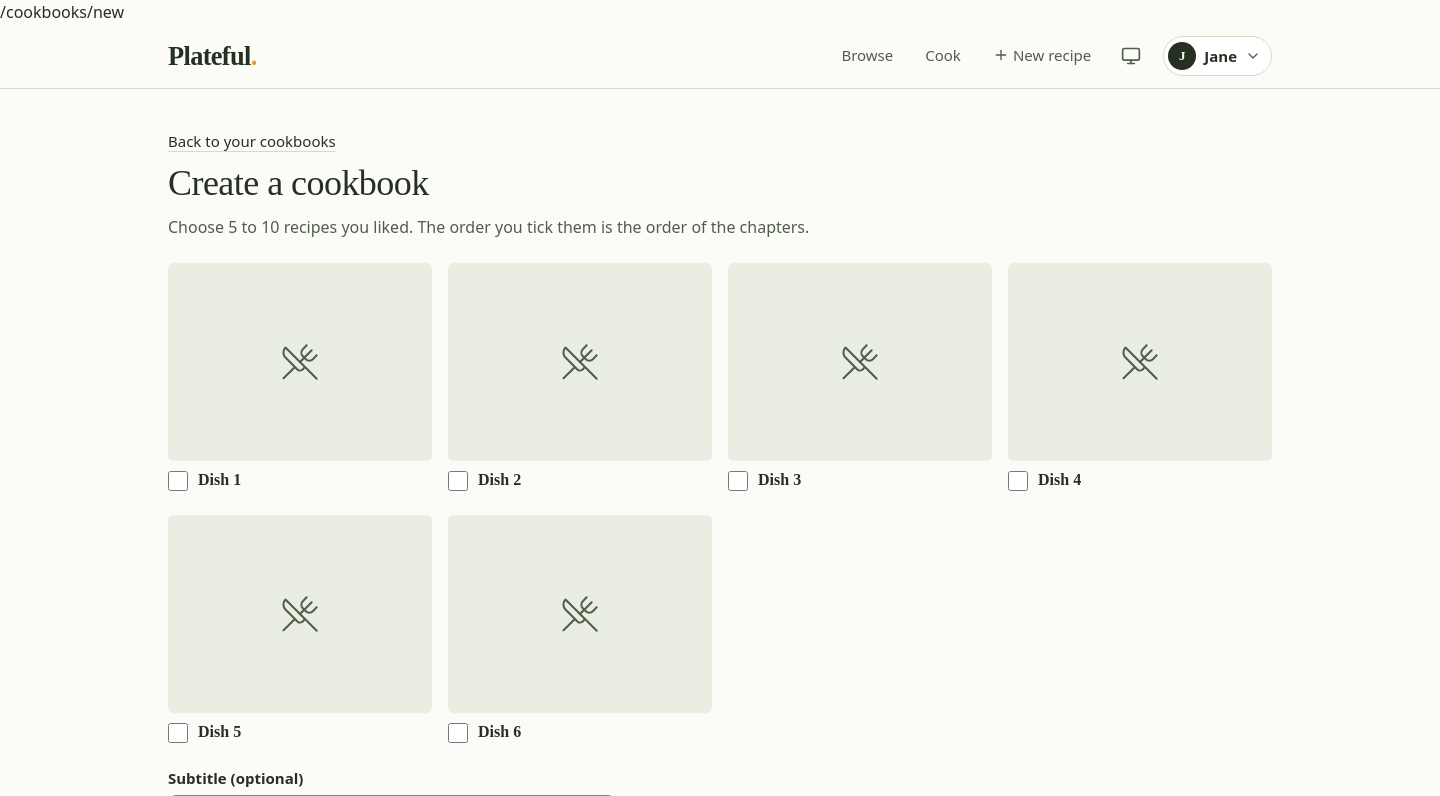
Test: aConflictShowsItsMessage_keepsThePage_andDropsTicksNoLongerOffered
Click the checkbox labelled "Dish 1". click: (178, 481)
box: 168,471 -> 188,491
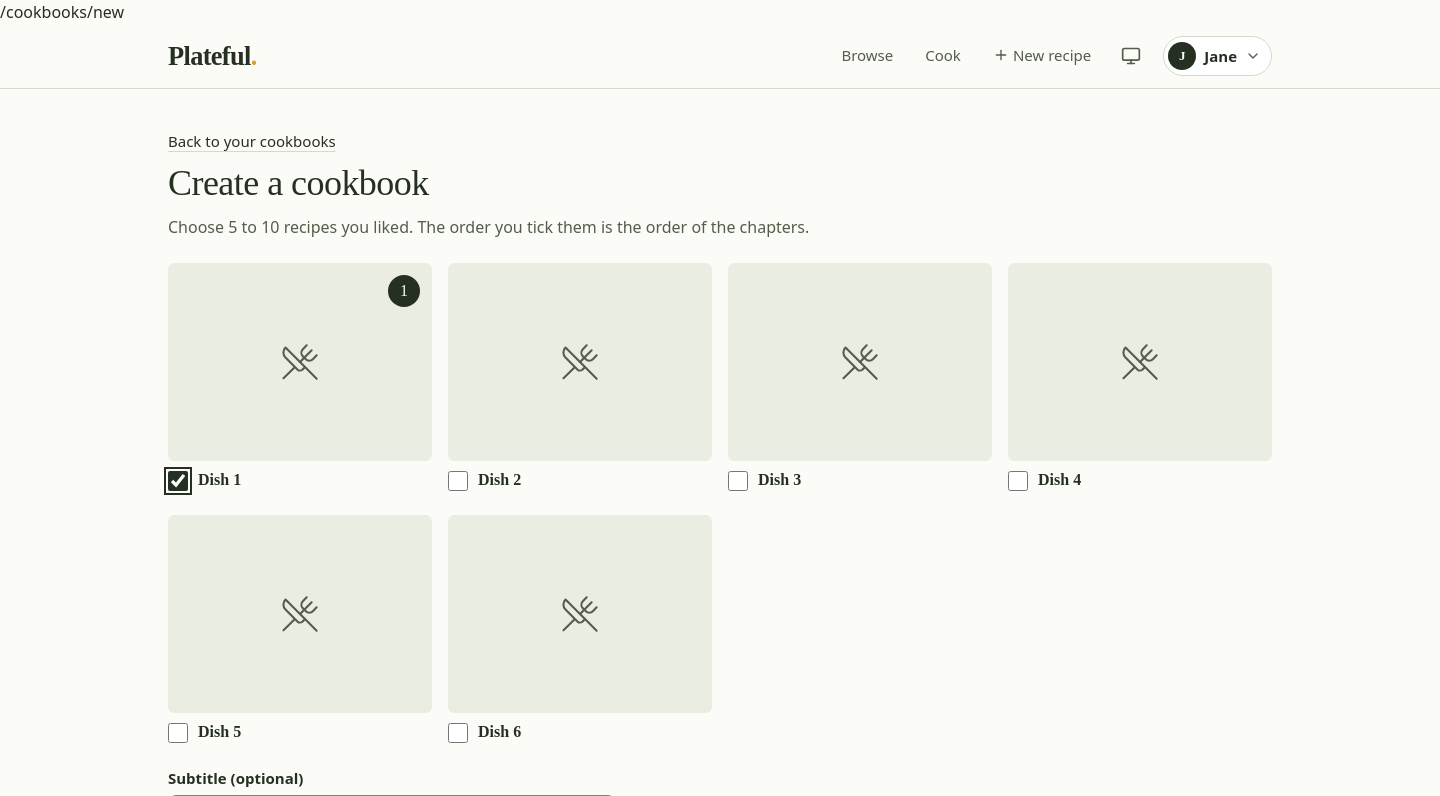
Click the checkbox labelled "Dish 2". click: (458, 481)
box: 448,471 -> 468,491
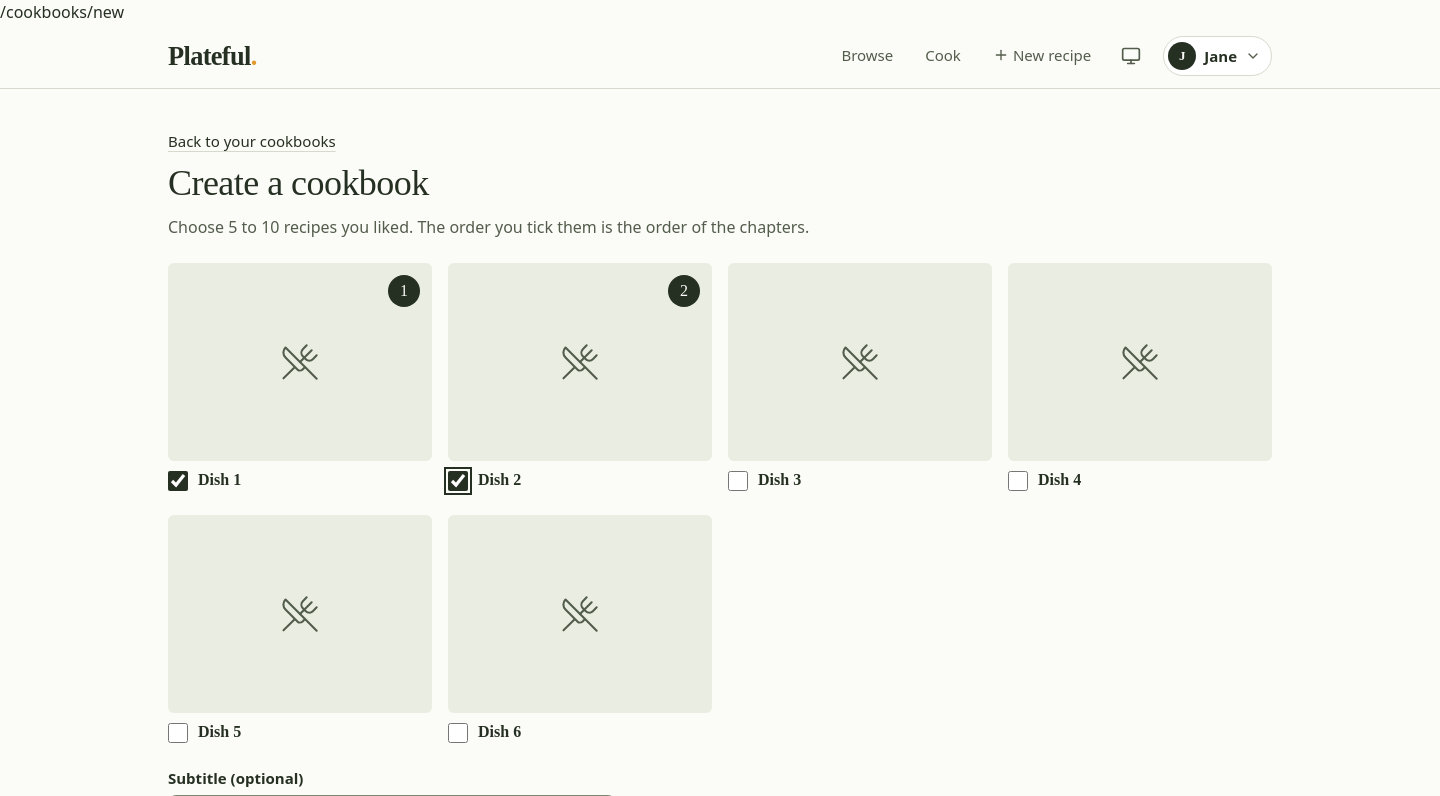
Click the checkbox labelled "Dish 3". click: (738, 481)
box: 728,471 -> 748,491
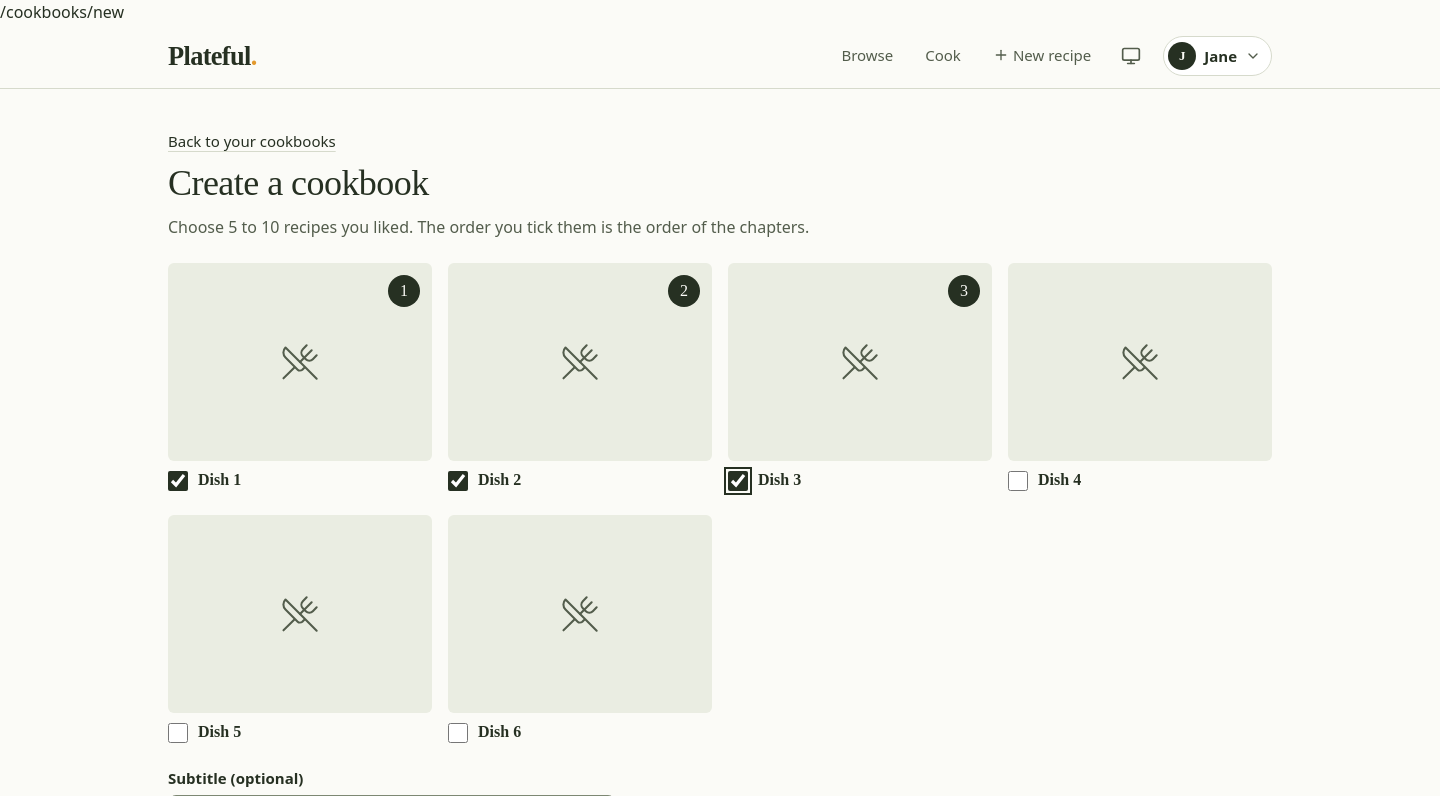
Click the checkbox labelled "Dish 4". click: (1018, 481)
box: 1008,471 -> 1028,491
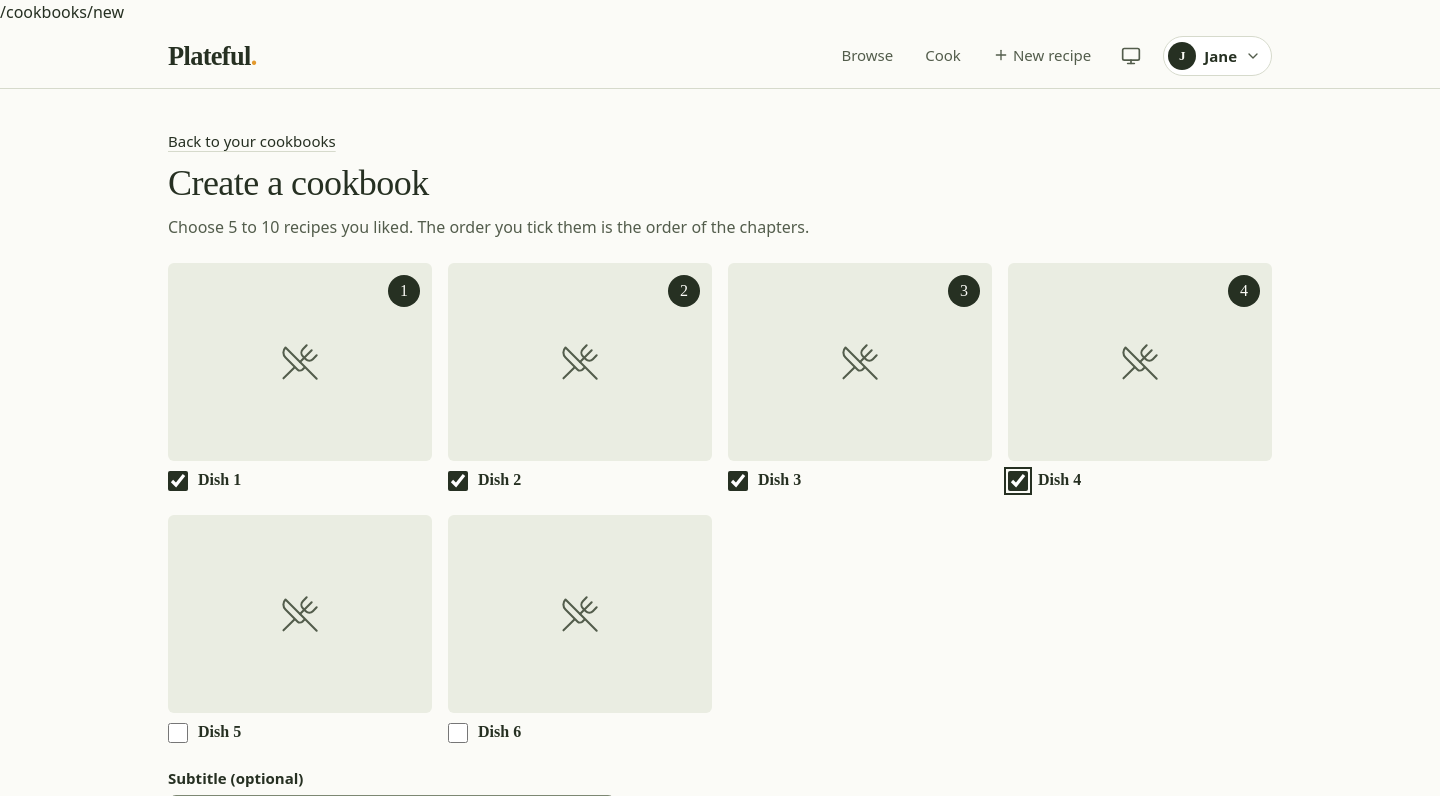
Click the checkbox labelled "Dish 5". click: (178, 733)
box: 168,723 -> 188,743
(page scrolled)
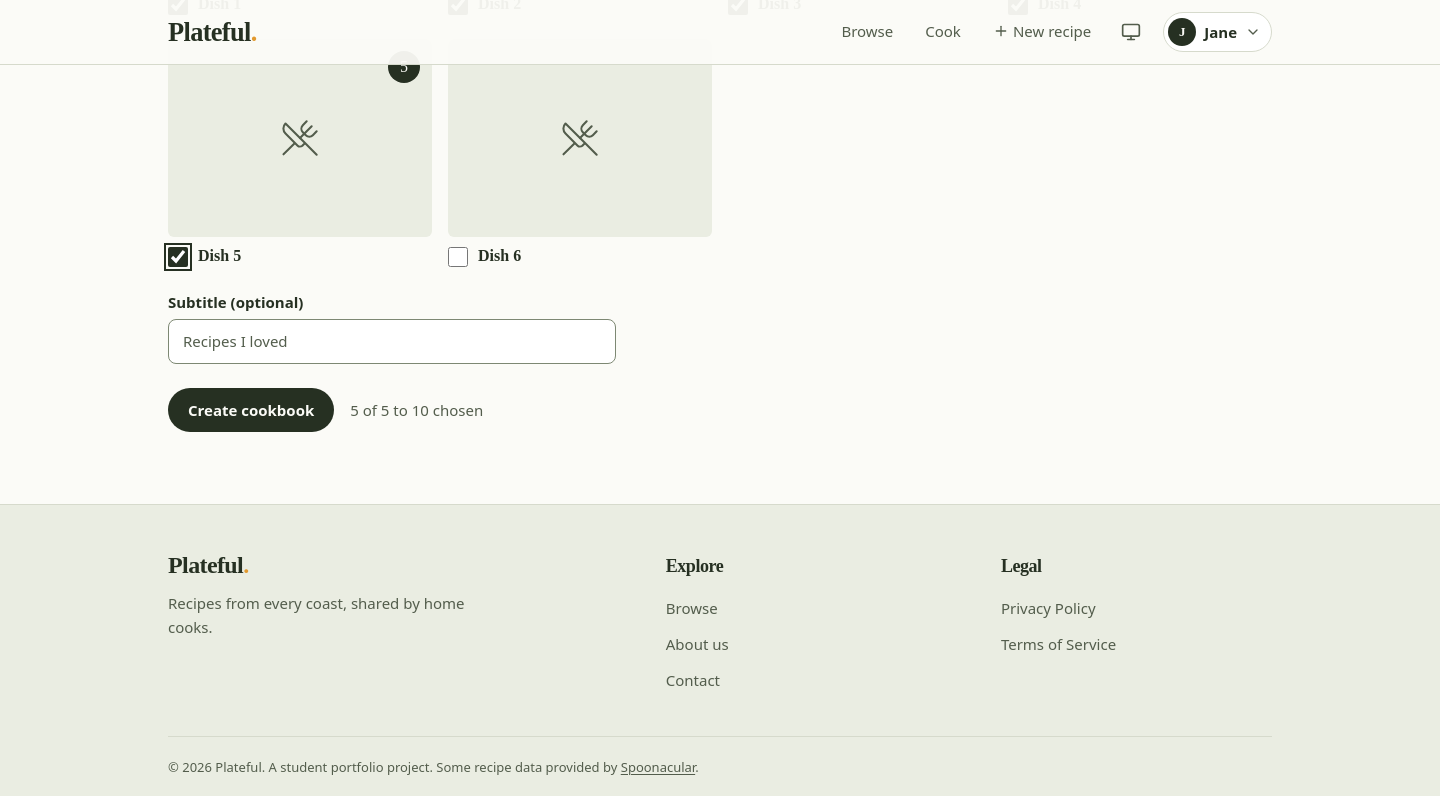
Click the button "Create cookbook". click: (251, 410)
box: 168,388 -> 334,432
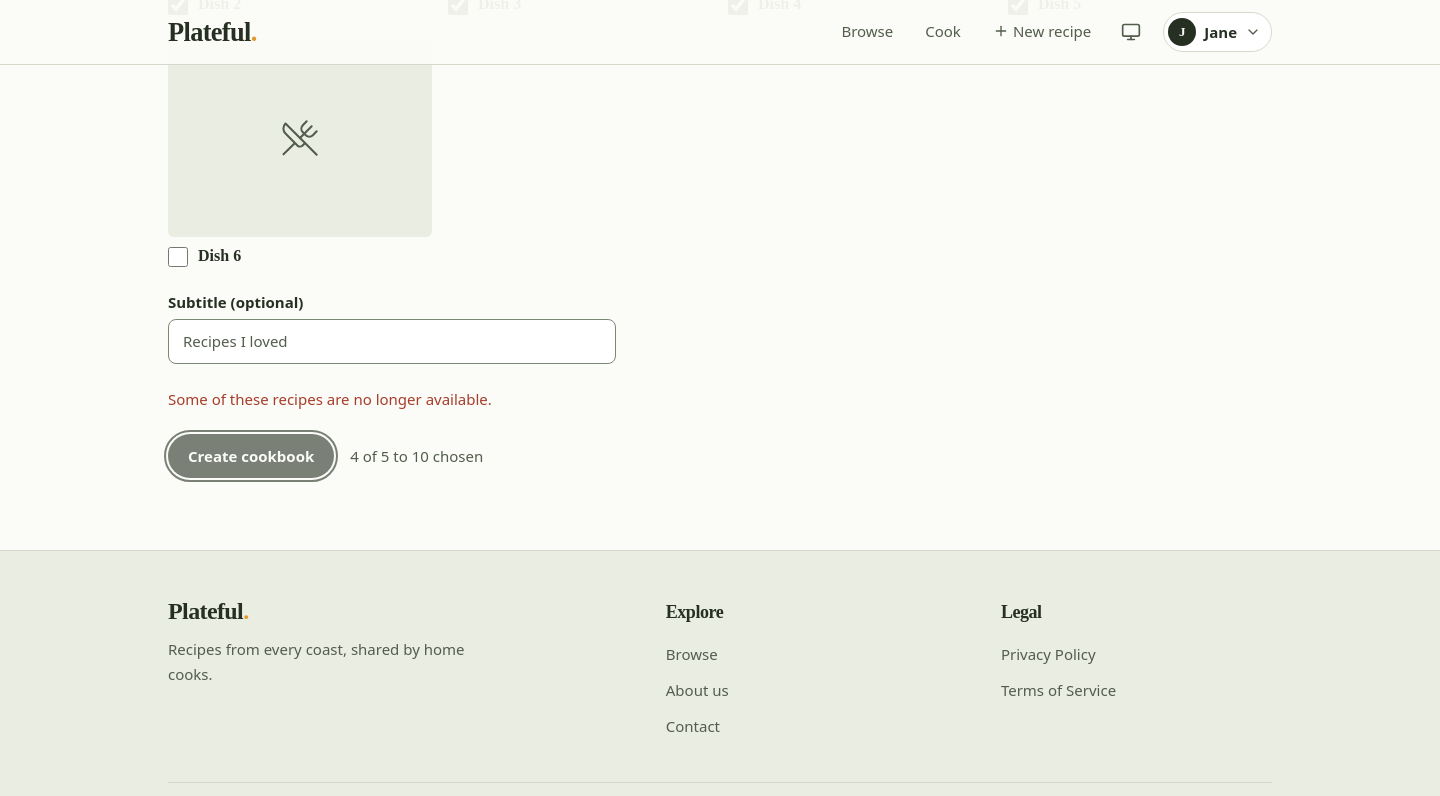
Expected: the checkbox labelled "Dish 1" is not shown
Now the message reads "Some of these recipes are no longer available.", box 168,389 -> 492,409
Now the text "4 of 5 to 10 chosen" is shown, box 350,445 -> 483,468
